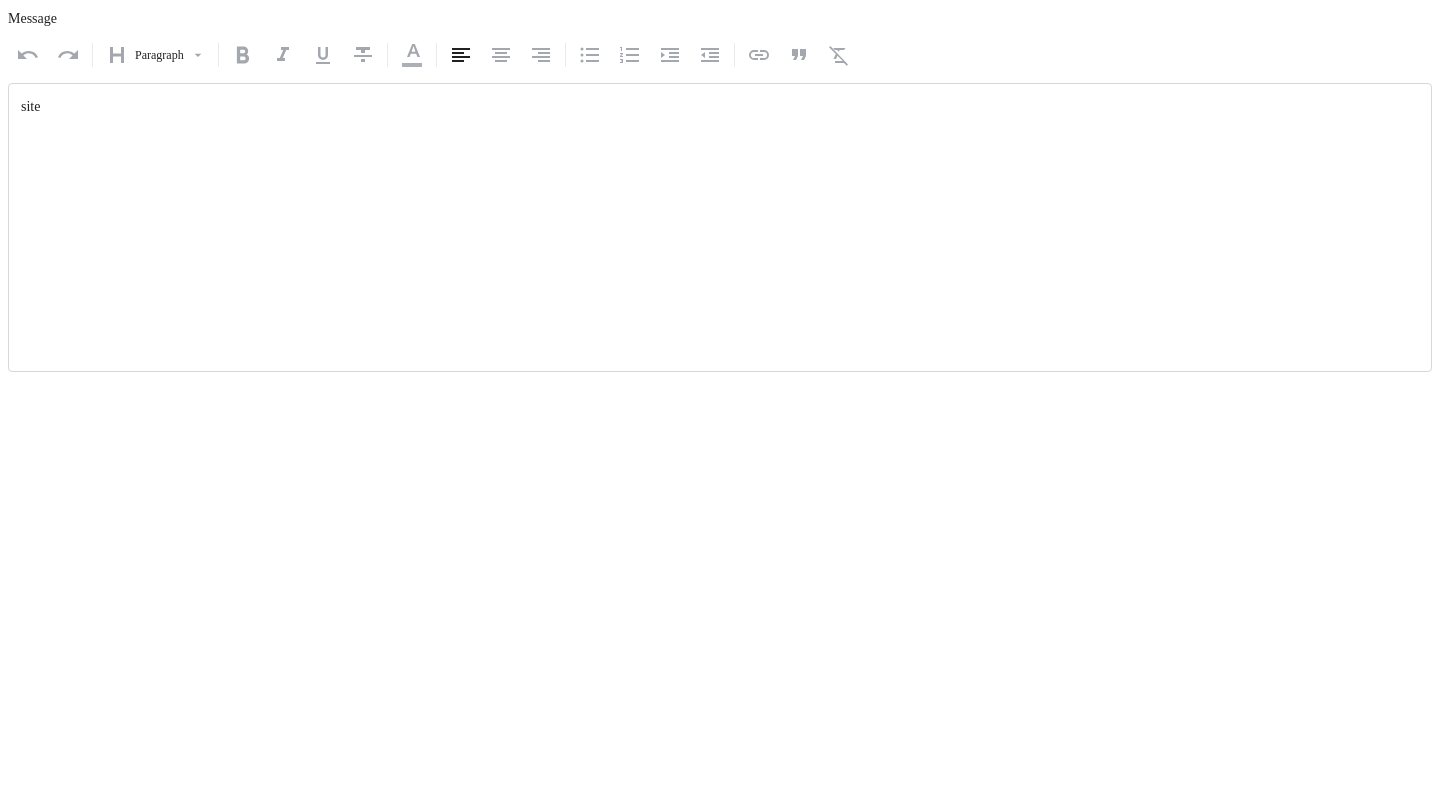
Test: the link popover › refuses a javascript: URL whatever the consumer says
Step 1. Click the button named "Link" → (759, 55), box x1=739 y1=35 x2=779 y2=75
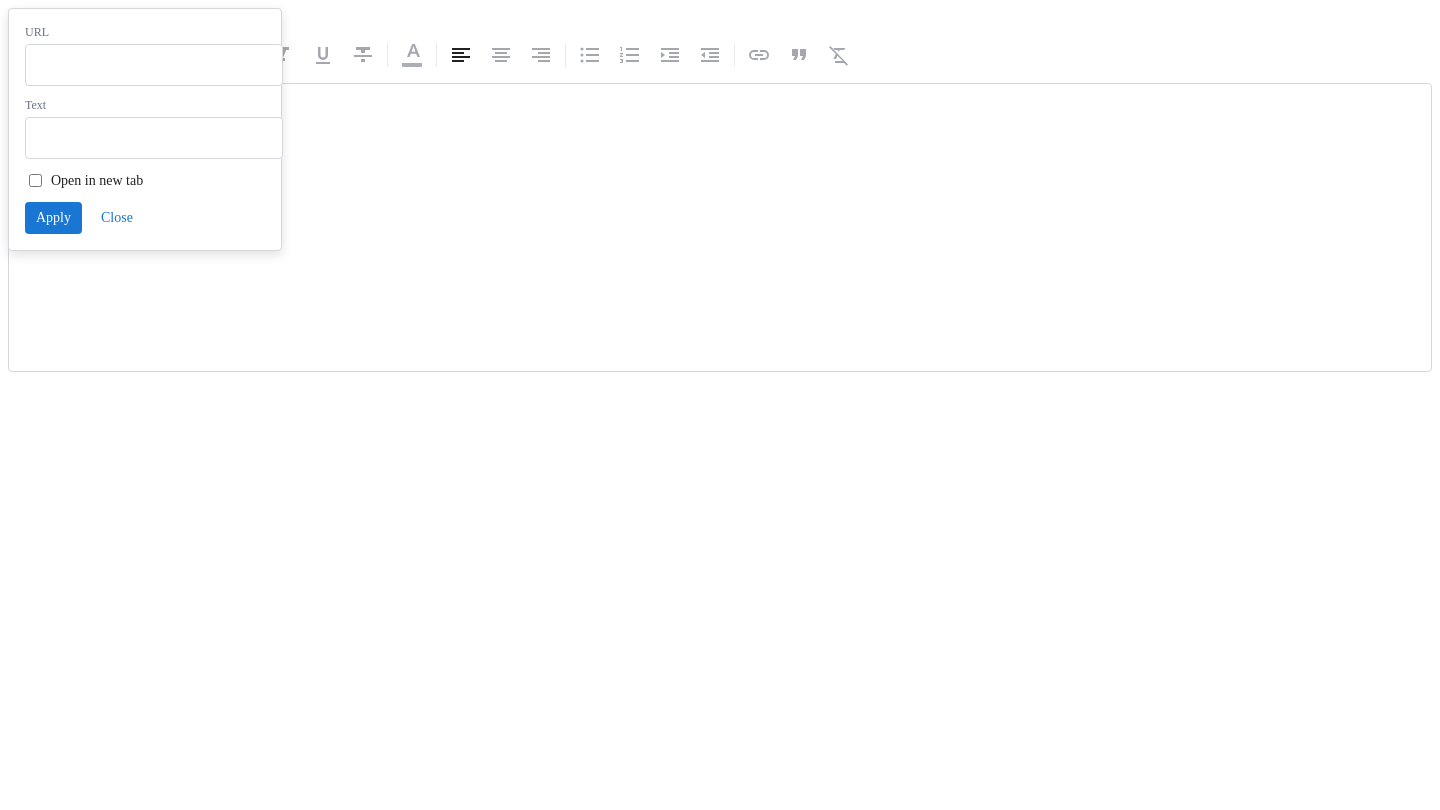
Step 2. Type "javascript:alert(1)" into the field labelled "URL" → (154, 65), box x1=25 y1=44 x2=283 y2=86
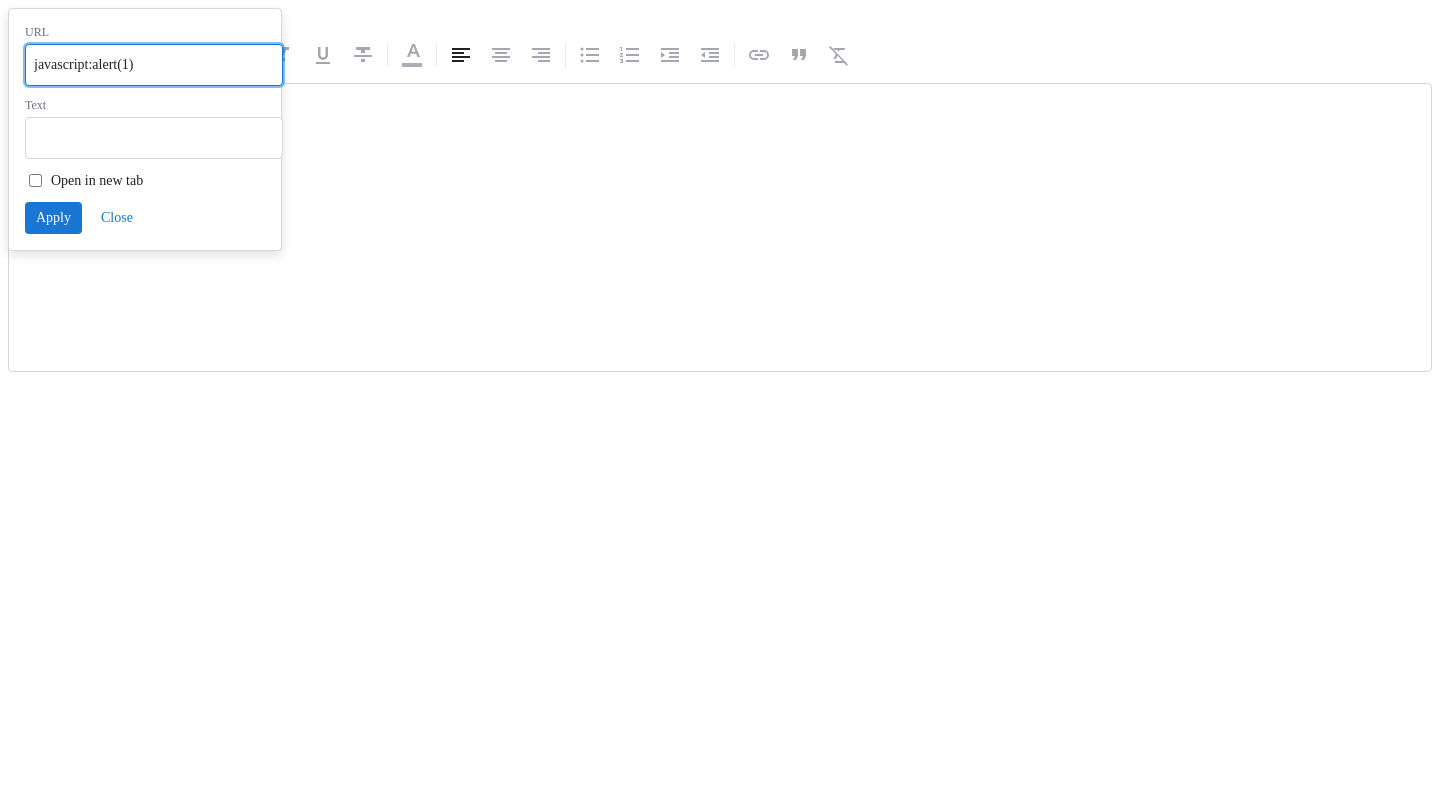
Step 3. Click the button "Apply" → (54, 218), box x1=25 y1=202 x2=82 y2=234
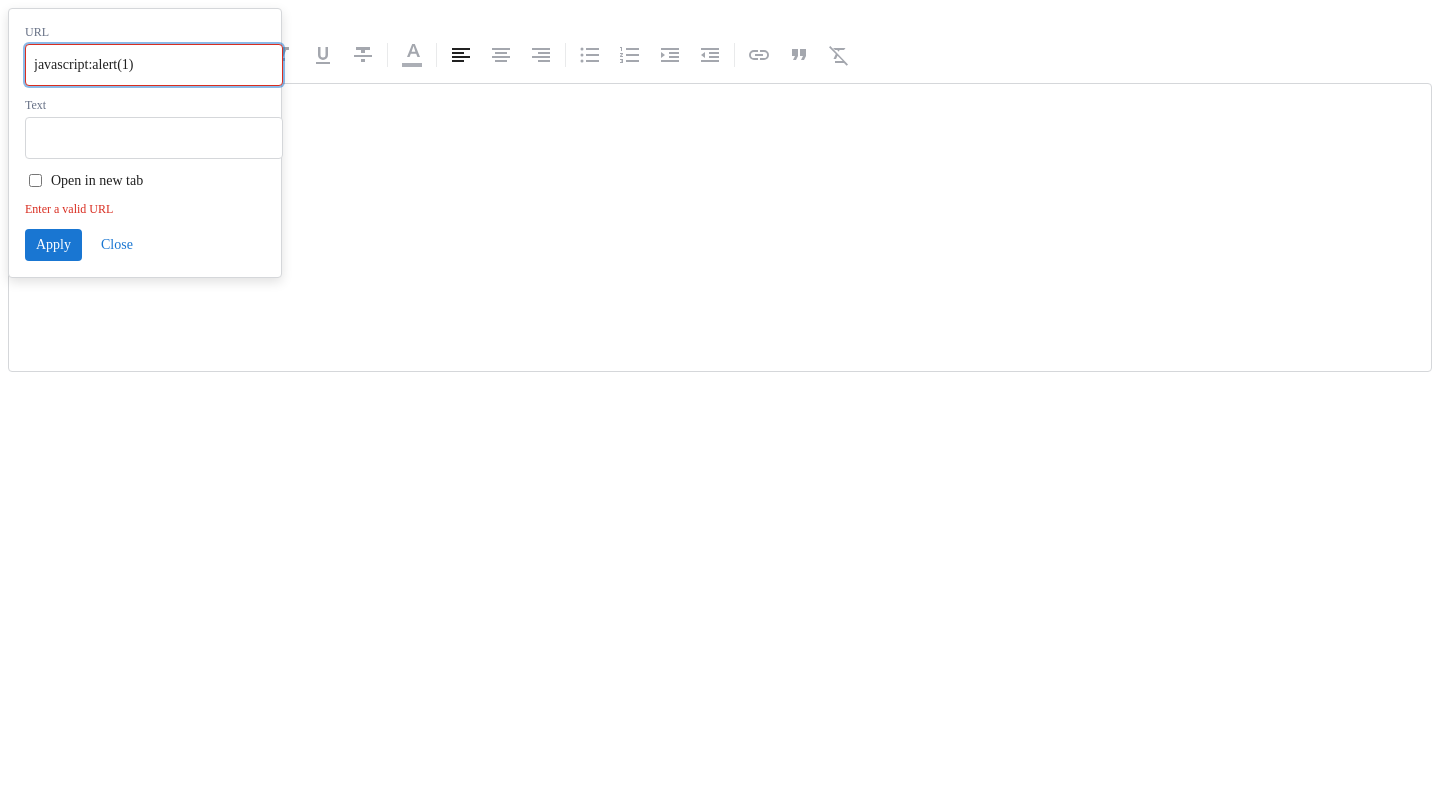
expect the message reads "Enter a valid URL": met, box x1=25 y1=202 x2=113 y2=216
